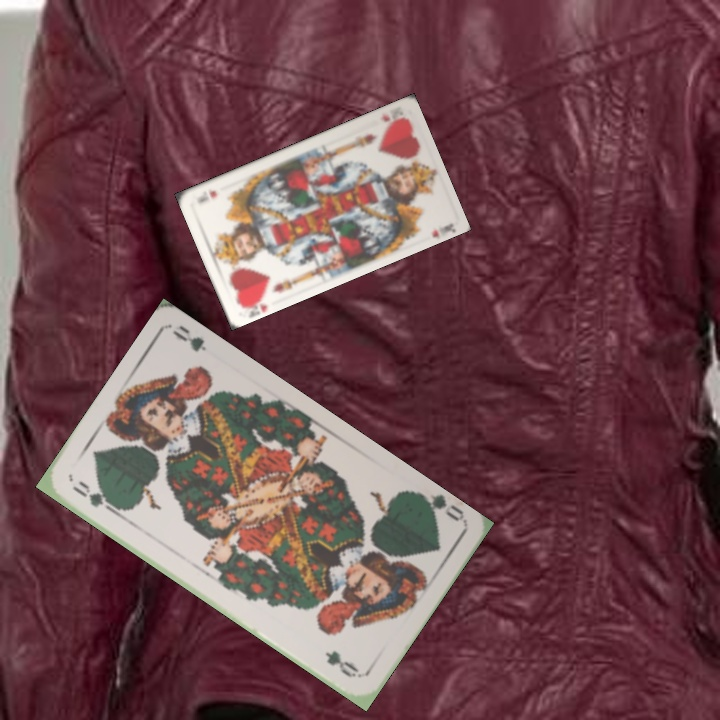GO: (412, 487, 467, 526), (68, 477, 121, 517)
HK: (237, 291, 270, 318), (376, 103, 407, 130)
